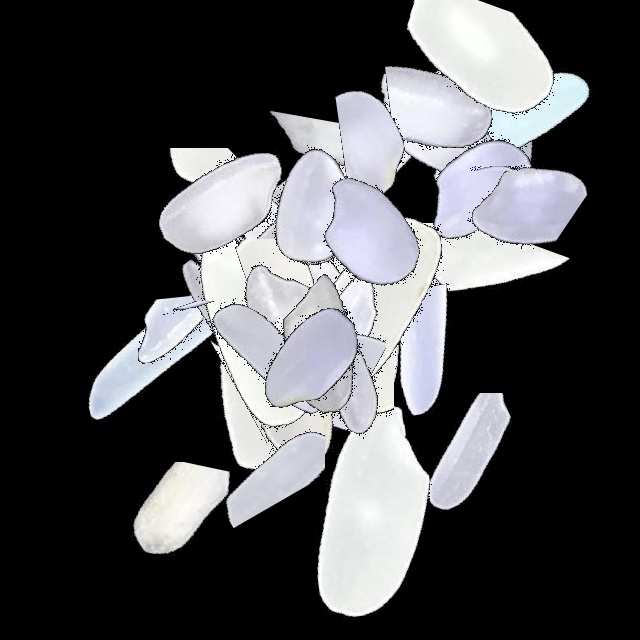Broken: (355, 393, 605, 567), (246, 164, 496, 330), (374, 102, 624, 262), (50, 462, 300, 620), (343, 23, 593, 181), (338, 0, 588, 158), (353, 239, 506, 489), (157, 263, 307, 513), (290, 65, 540, 212), (183, 308, 325, 558), (203, 239, 453, 376), (294, 109, 430, 359), (261, 63, 393, 313), (339, 223, 589, 351), (176, 329, 426, 443), (96, 293, 346, 402), (287, 227, 394, 477), (80, 301, 330, 396), (293, 210, 386, 460), (83, 148, 333, 238), (356, 86, 606, 171), (280, 288, 362, 538)
Full: (368, 0, 618, 250), (322, 0, 572, 250), (281, 0, 531, 250), (129, 136, 379, 386), (251, 192, 501, 442), (184, 78, 434, 328), (186, 275, 436, 525), (189, 118, 439, 368), (34, 230, 284, 480), (245, 386, 495, 636), (385, 0, 635, 250), (168, 120, 418, 370), (306, 0, 556, 250), (349, 64, 599, 314), (149, 127, 399, 377), (254, 179, 504, 429), (163, 242, 413, 492), (103, 190, 353, 440), (217, 216, 467, 466), (133, 203, 383, 453), (163, 209, 413, 459), (143, 231, 393, 481), (189, 83, 439, 333), (211, 243, 461, 493), (202, 222, 452, 472), (183, 231, 433, 481), (96, 79, 346, 329), (246, 109, 496, 359)
